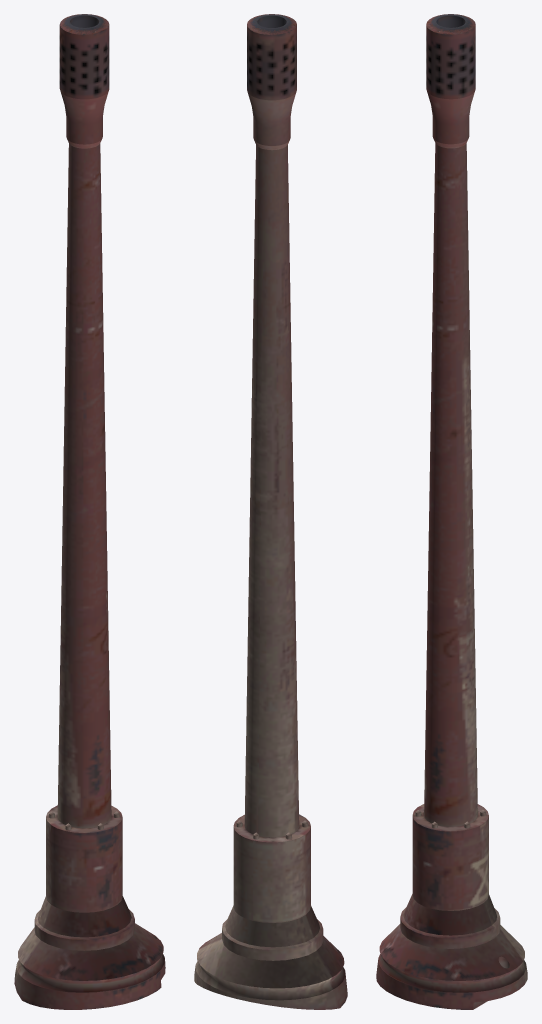
The model's file is Gun_01.glb.
The picture shows the model from 3 angles, left to right: view 1: azimuth 30°, elevation 25°; view 2: azimuth 150°, elevation 25°; view 3: azimuth 330°, elevation 25°; orthographic projection.
Visible parts, largest first — view 1: set_0_group_0; view 2: set_0_group_0; view 3: set_0_group_0.
Part boxes in pixels (<box>): set_0_group_0: <box>14,14,165,1009</box>; set_0_group_0: <box>194,14,347,1009</box>; set_0_group_0: <box>376,14,527,1009</box>.
Bounding box in the file's own units: 0.7126 × 4.83 × 0.6135.
Materials: 1 (1 with a texture image).
